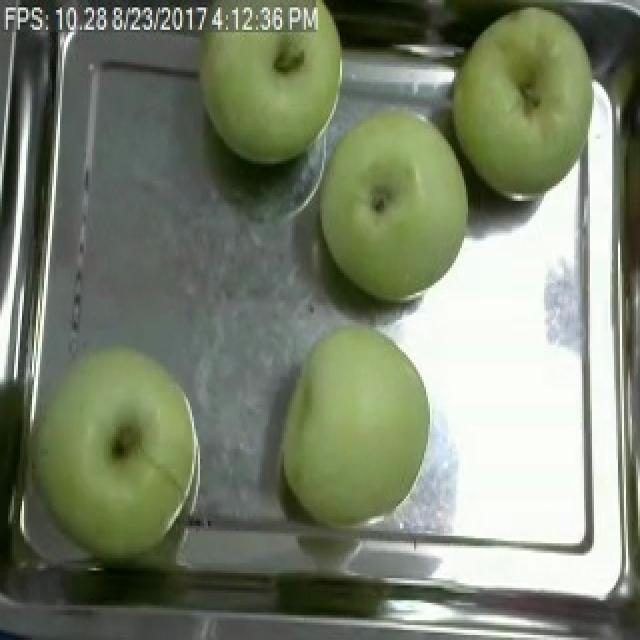50-_ripeness: (31, 337, 200, 568), (277, 312, 443, 525), (451, 0, 606, 217), (321, 107, 466, 302), (189, 0, 354, 165)
